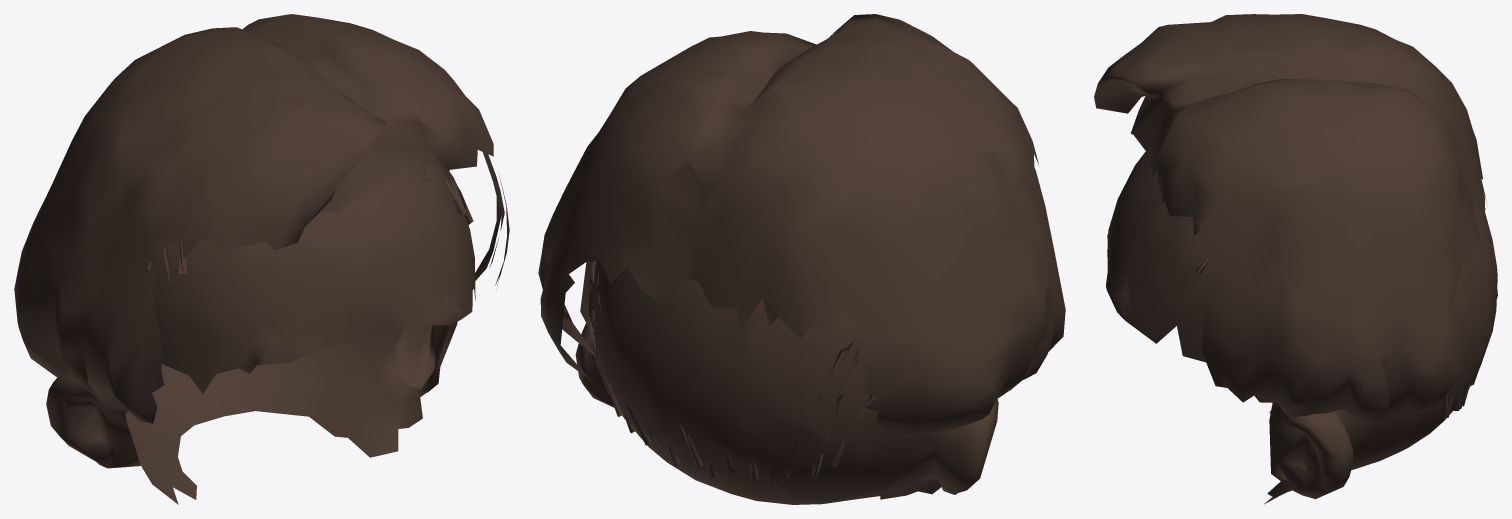
The model's file is bob.glb.
The picture shows the model from 3 angles, left to right: view 1: azimuth 30°, elevation 25°; view 2: azimuth 150°, elevation 25°; view 3: azimuth 270°, elevation 25°; orthographic projection. The views are drawn at different scales.
Parts seen in each view (by area): view 1: Hair, HairScalp, HairPulledRootStrands; view 2: Hair, HairScalp, HairPulledRootStrands; view 3: Hair, HairScalp, HairPulledRootStrands.
Boxes of the visible parts, <box> form: Hair: <box>14,14,509,423</box>; HairScalp: <box>46,161,475,504</box>; HairPulledRootStrands: <box>146,171,473,283</box>; Hair: <box>538,14,1065,437</box>; HairScalp: <box>575,261,998,504</box>; HairPulledRootStrands: <box>589,261,872,484</box>; Hair: <box>1094,14,1487,423</box>; HairScalp: <box>1106,151,1497,504</box>; HairPulledRootStrands: <box>1195,257,1497,418</box>.
Size of the model in its own units: 0.572 by 0.5059 by 0.4497.
